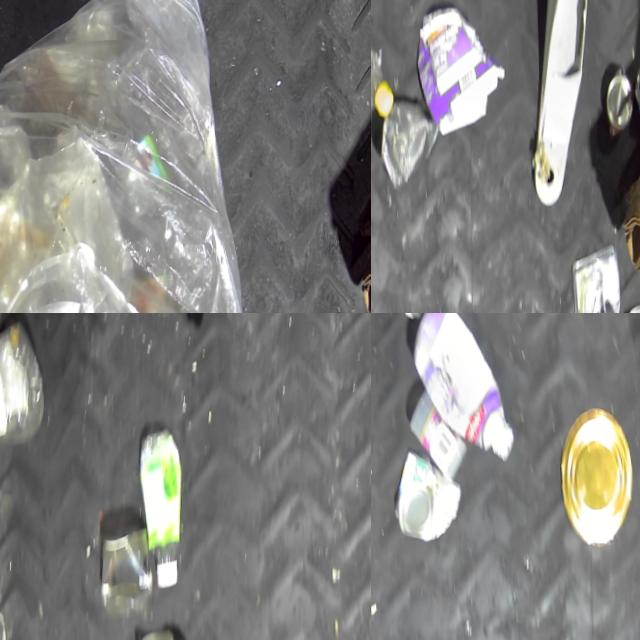can: (559, 410, 633, 555), (391, 450, 463, 548), (93, 526, 153, 623), (380, 103, 429, 192), (604, 75, 633, 142), (632, 60, 640, 131)
non_white_jug: (415, 7, 504, 142)
plastic_bottle: (0, 317, 42, 463), (371, 50, 395, 195)
